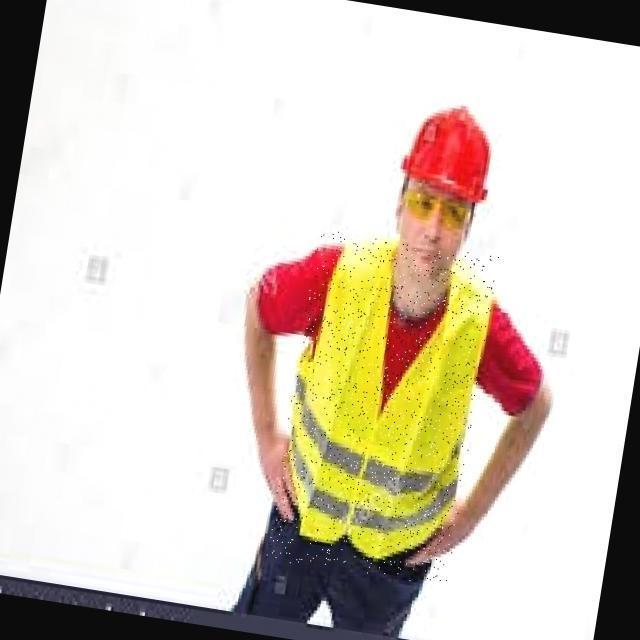helmet: (393, 89, 501, 212)
vest: (266, 229, 499, 588)
